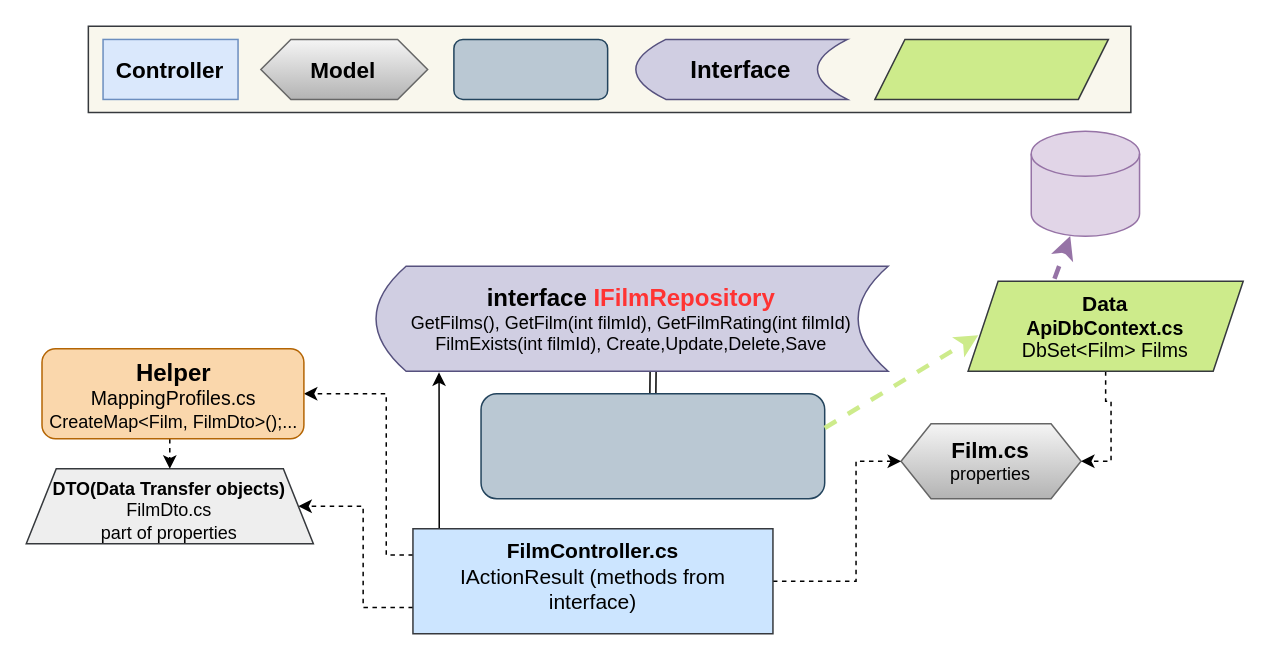
Image size: 1271x660. Some labels were removed from this diagram. The centre of each missing label's shape, as x and y in pixels:
"Entity Framework" belongs at pixel 990 68.
"Films" belongs at pixel 1085 183.
"Repository" belongs at pixel 530 68.
"Repository FilmRepository.cs (implementation methods from interface)" belongs at pixel 652 445.
